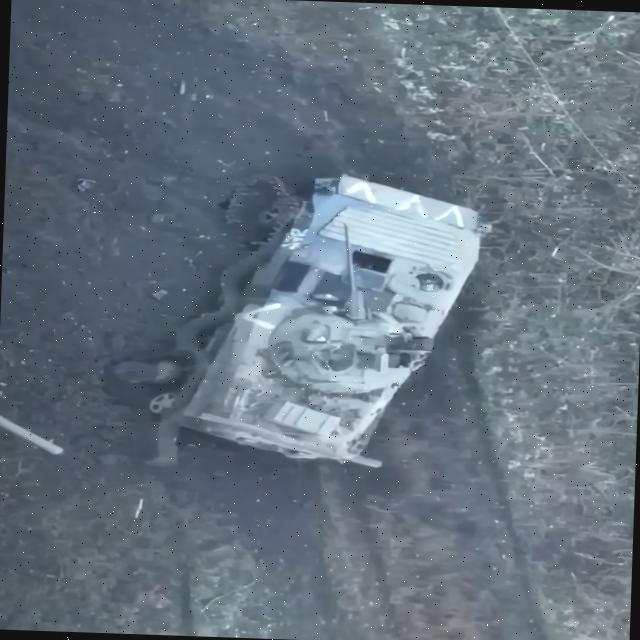AIFV: (113, 163, 491, 471)
